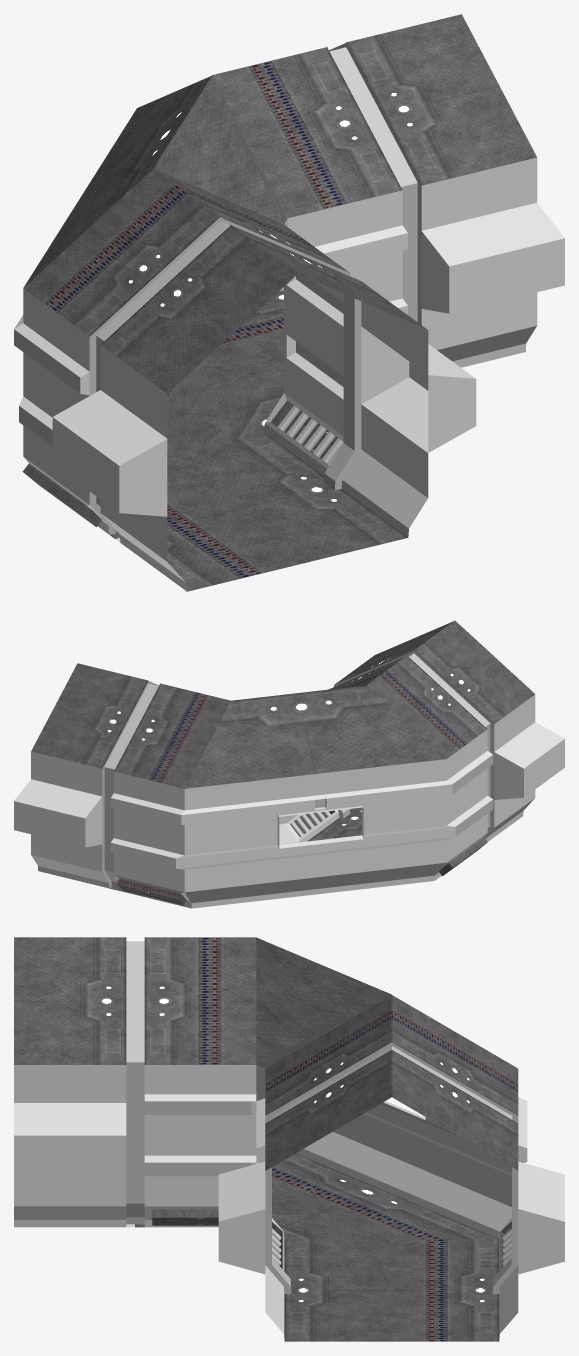
The model's file is CornerCorridor.fbx.
3 renders of one model, top to bottom at view 1: azimuth 30°, elevation 25°; view 2: azimuth 150°, elevation 25°; view 3: azimuth 270°, elevation 25°, orthographic. The views are drawn at different scales.
Parts seen in each view (by area): view 1: Plane.001; view 2: Plane.001; view 3: Plane.001.
Part boxes in pixels (<box>): Plane.001: <box>14,14,564,591</box>; Plane.001: <box>14,620,564,908</box>; Plane.001: <box>14,937,564,1341</box>.
Bounding box in the file's own units: 929 × 455 × 929.
